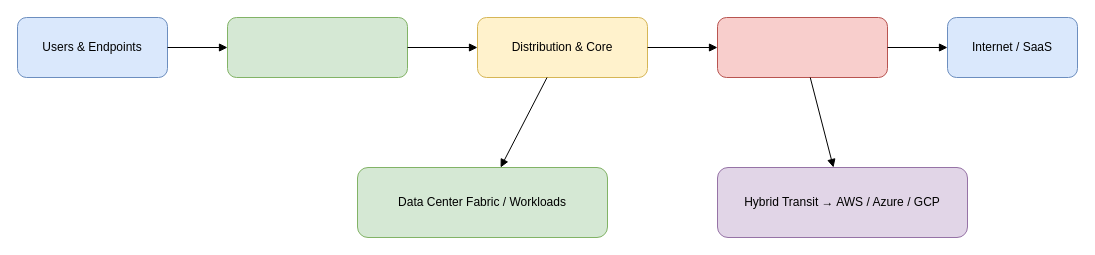
This 1095x255 diagram has some shape labels left out. The shapes that lost their labels are listed below. From the top down, each one's box as (x1, y1, x2, y2) in pixels, then its label:
(226, 16, 408, 78): Campus / Branch Access
(716, 16, 888, 78): WAN / Security Edge
